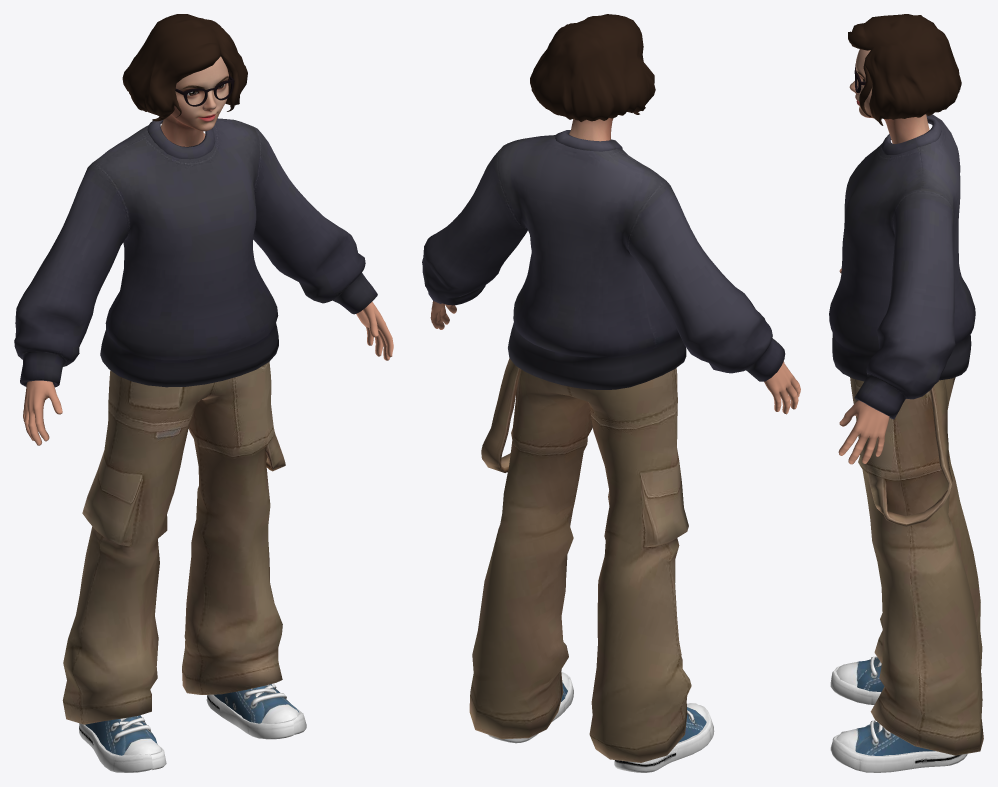
The model's file is anita.glb.
3 renders of one model, left to right at view 1: azimuth 30°, elevation 25°; view 2: azimuth 150°, elevation 25°; view 3: azimuth 270°, elevation 25°, orthographic.
Parts seen in each view (by area): view 1: Wolf3D_Outfit_Top, Wolf3D_Outfit_Bottom, Wolf3D_Hair, Wolf3D_Outfit_Footwear, Wolf3D_Head, Wolf3D_Body; view 2: Wolf3D_Outfit_Bottom, Wolf3D_Outfit_Top, Wolf3D_Hair, Wolf3D_Outfit_Footwear, Wolf3D_Body, Wolf3D_Head; view 3: Wolf3D_Outfit_Bottom, Wolf3D_Outfit_Top, Wolf3D_Hair, Wolf3D_Outfit_Footwear, Wolf3D_Body, Wolf3D_Head.
Part boxes in pixels (left/top/right/bottom): Wolf3D_Outfit_Top: left=14, top=118, right=377, bottom=387; Wolf3D_Outfit_Bottom: left=62, top=362, right=285, bottom=724; Wolf3D_Hair: left=122, top=14, right=247, bottom=121; Wolf3D_Outfit_Footwear: left=79, top=684, right=306, bottom=772; Wolf3D_Head: left=160, top=56, right=228, bottom=146; Wolf3D_Body: left=23, top=301, right=393, bottom=445; Wolf3D_Outfit_Bottom: left=469, top=358, right=691, bottom=762; Wolf3D_Outfit_Top: left=422, top=130, right=785, bottom=389; Wolf3D_Hair: left=530, top=14, right=655, bottom=121; Wolf3D_Outfit_Footwear: left=488, top=671, right=714, bottom=772; Wolf3D_Body: left=430, top=301, right=800, bottom=414; Wolf3D_Head: left=569, top=118, right=613, bottom=141; Wolf3D_Outfit_Bottom: left=850, top=377, right=983, bottom=755; Wolf3D_Outfit_Top: left=829, top=114, right=975, bottom=419; Wolf3D_Hair: left=848, top=14, right=961, bottom=125; Wolf3D_Outfit_Footwear: left=830, top=656, right=967, bottom=772; Wolf3D_Body: left=838, top=268, right=889, bottom=464; Wolf3D_Head: left=849, top=49, right=929, bottom=143.
Size of the model in its own units: 0.9283 by 1.77 by 0.3493.
Materials: 9 (9 with a texture image).
